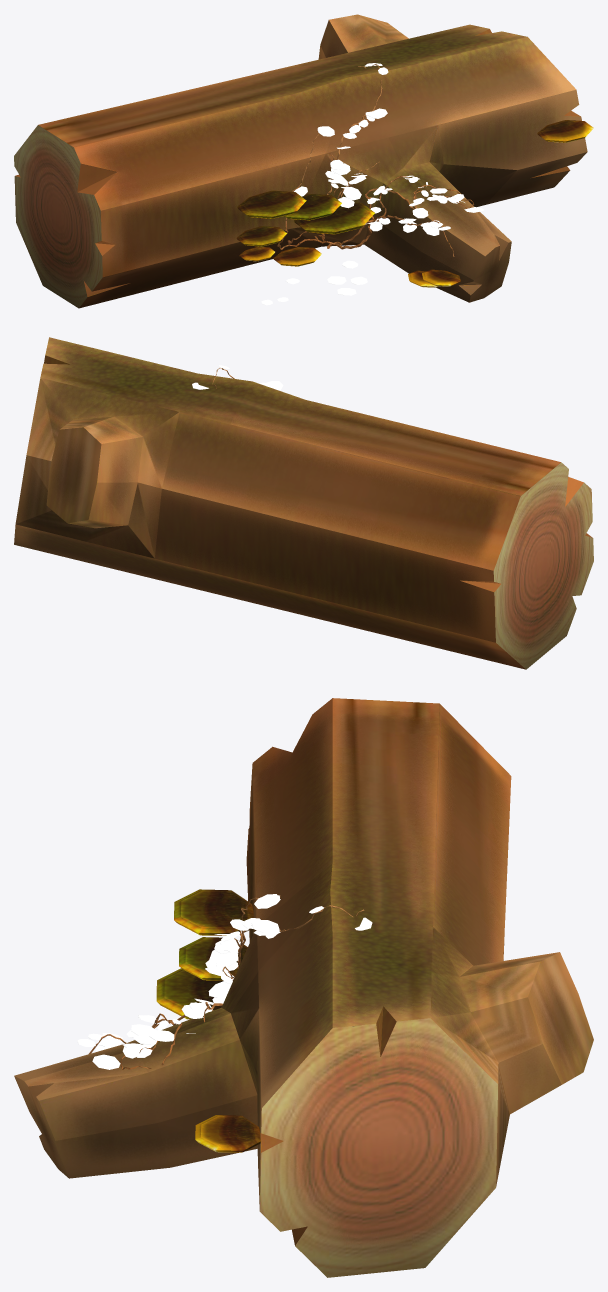
The model's file is stump.glb.
3 views of the same model, one above another, from view 1: azimuth 30°, elevation 25°; view 2: azimuth 150°, elevation 25°; view 3: azimuth 270°, elevation 25° (orthographic). The views are drawn at different scales.
Visible parts, largest first — view 1: Cylinder.001, Cylinder.002, IVY_Curve; view 2: Cylinder.001; view 3: Cylinder.001, Cylinder.002, IVY_Curve.
Part boxes in pixels (x1,y1,x2,y2): Cylinder.001: [14, 14, 587, 308]; Cylinder.002: [236, 120, 593, 287]; IVY_Curve: [277, 64, 473, 256]; Cylinder.001: [14, 337, 593, 669]; Cylinder.001: [14, 698, 593, 1277]; Cylinder.002: [156, 889, 260, 1152]; IVY_Curve: [89, 895, 364, 1069].
Bounding box in the file's own units: 0.835 × 0.2822 × 0.5753.
Materials: 4 (3 with a texture image).
